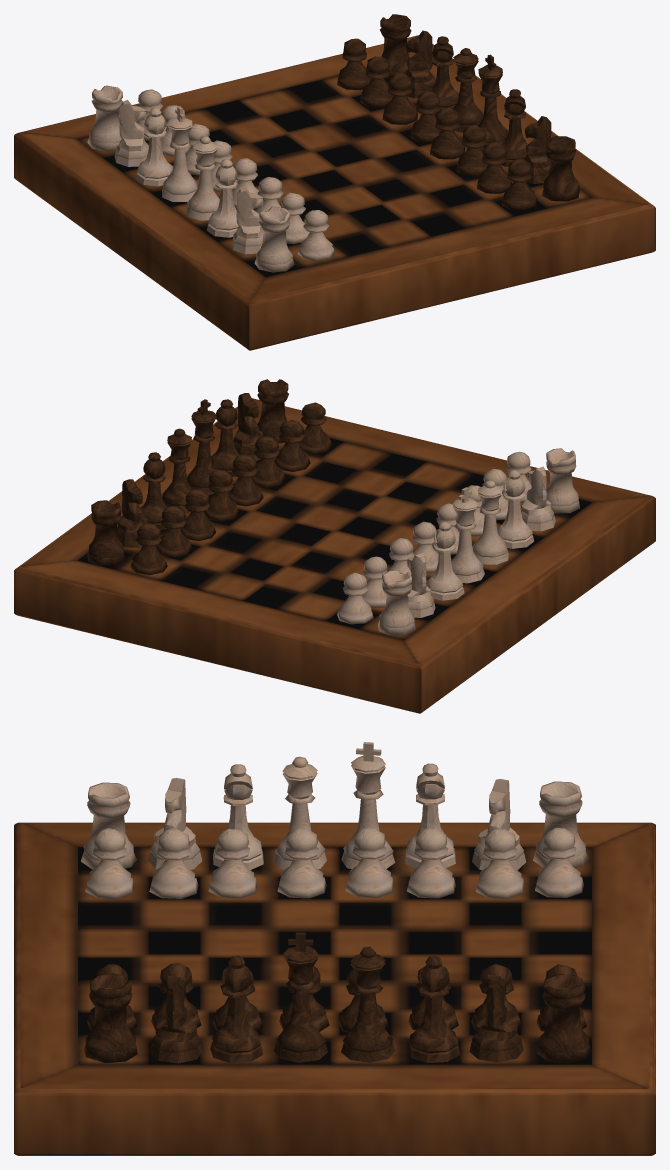
File: wooden-chess-set-90151f.glb
The picture shows the model from 3 angles, top to bottom: view 1: azimuth 30°, elevation 25°; view 2: azimuth 150°, elevation 25°; view 3: azimuth 270°, elevation 25°; orthographic projection. The views are drawn at different scales.
Visible parts, largest first — view 1: PropMesh; view 2: PropMesh; view 3: PropMesh.
Boxes of the visible parts, x1,y1,x2,y2 form: PropMesh: (14, 14, 655, 350); PropMesh: (14, 379, 655, 713); PropMesh: (14, 742, 655, 1155).
Size of the model in its own units: 0.3495 by 0.1108 by 0.3495.
3 materials, 3 textured.
